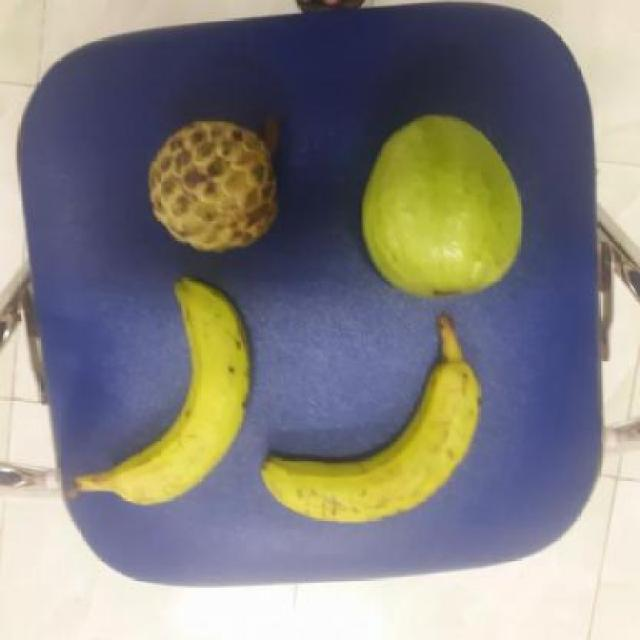banana: (263, 354, 488, 528), (109, 279, 253, 513)
guava: (361, 114, 524, 298), (140, 118, 282, 255)
